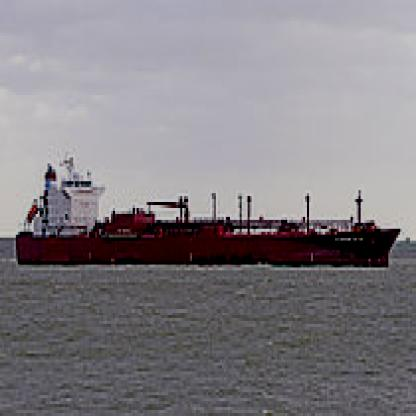Tanker: (18, 166, 406, 270)
